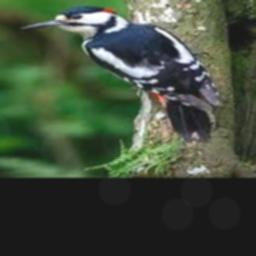Woodpecker: (21, 6, 224, 142)
